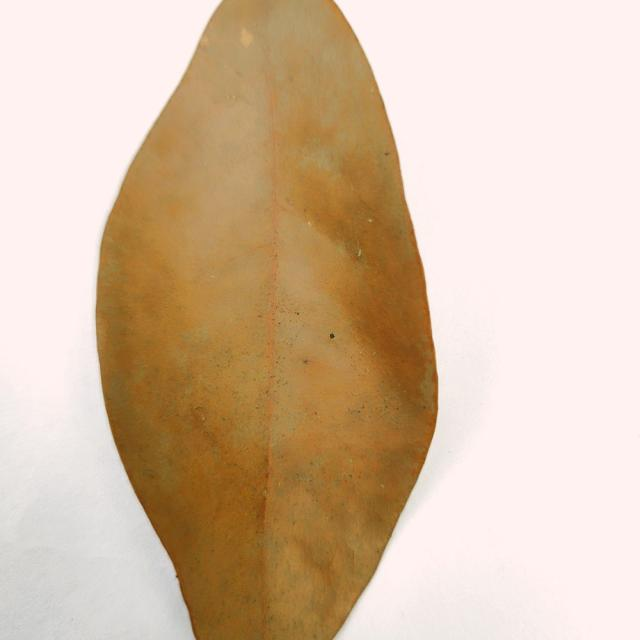Dry_Leaf-Lychee: (93, 0, 439, 639)
